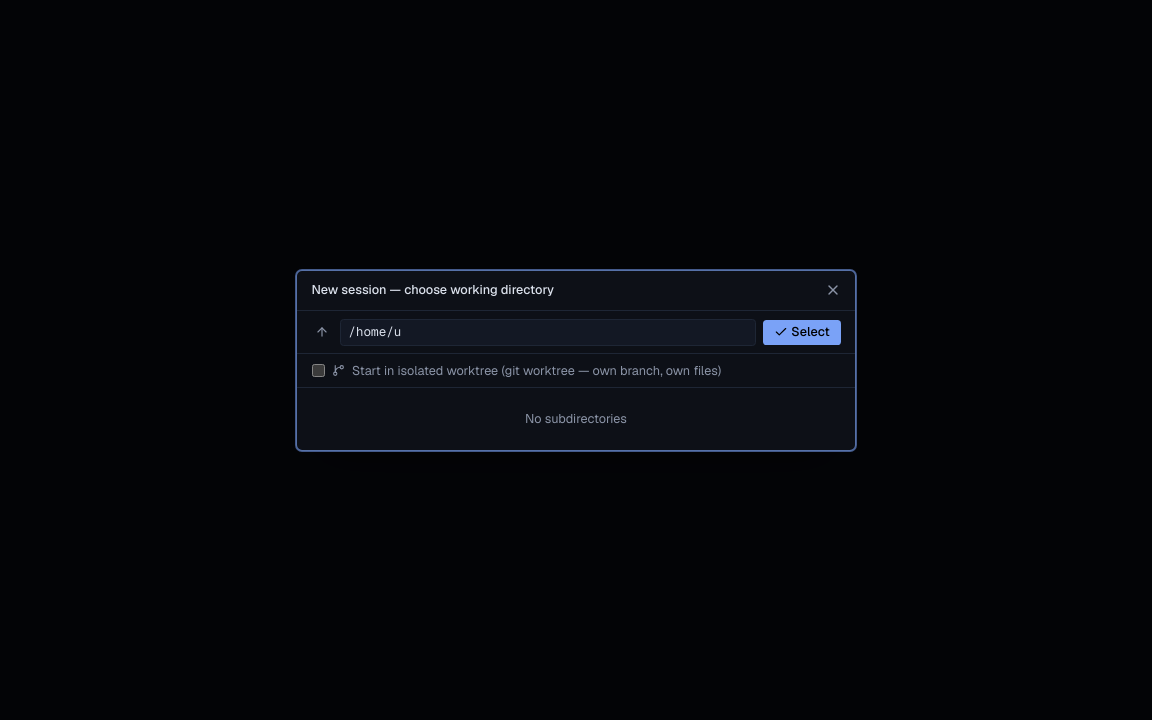
Test case: DirectoryPicker › Select refuses a directory that does not exist
Step 1. Replace the text in the field with "/nope" → (548, 332), box [340,319,756,346]
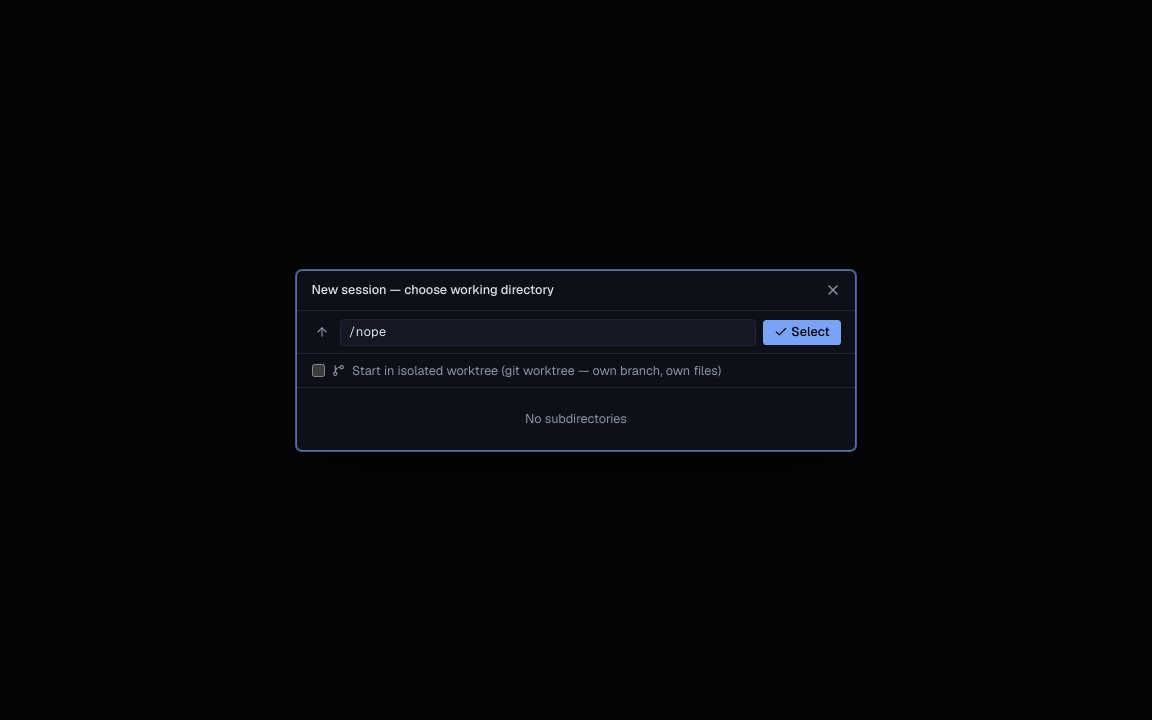
Step 2. Click the button "Select" → (802, 332), box [763,320,840,345]
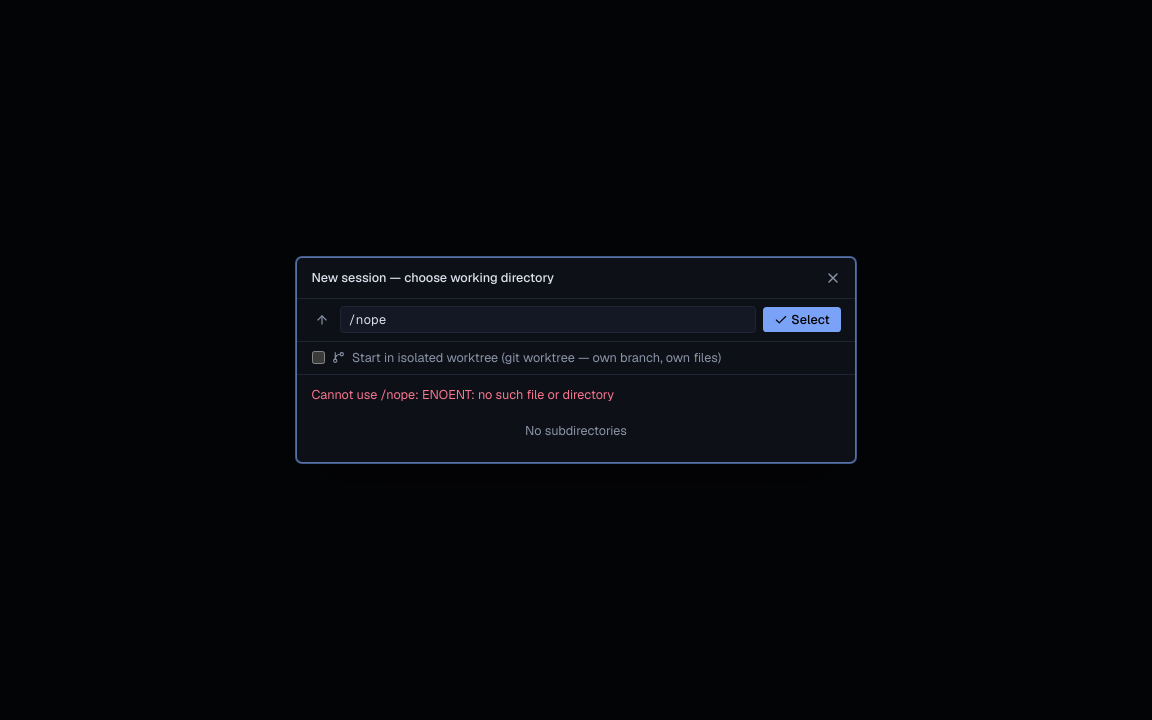
Expected: the text "Cannot use /nope: ENOENT: no such file or directory" is shown, [312,386,614,403]
